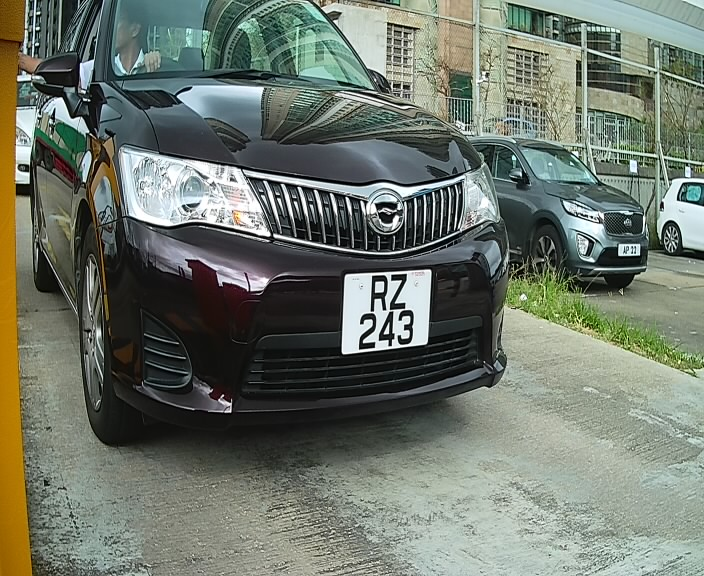Car: (25, 3, 520, 461)
License Plate: (328, 262, 440, 360)
